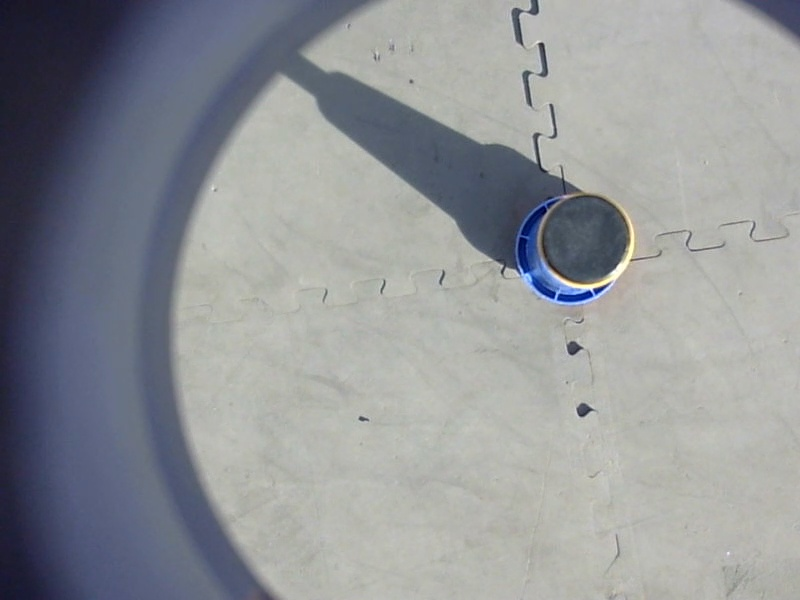tip: (530, 187, 639, 295)
